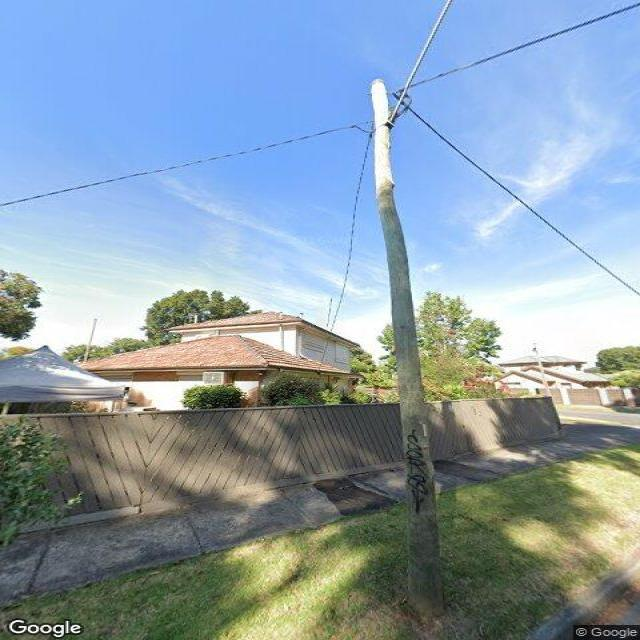timber-pole: (368, 77, 455, 616)
